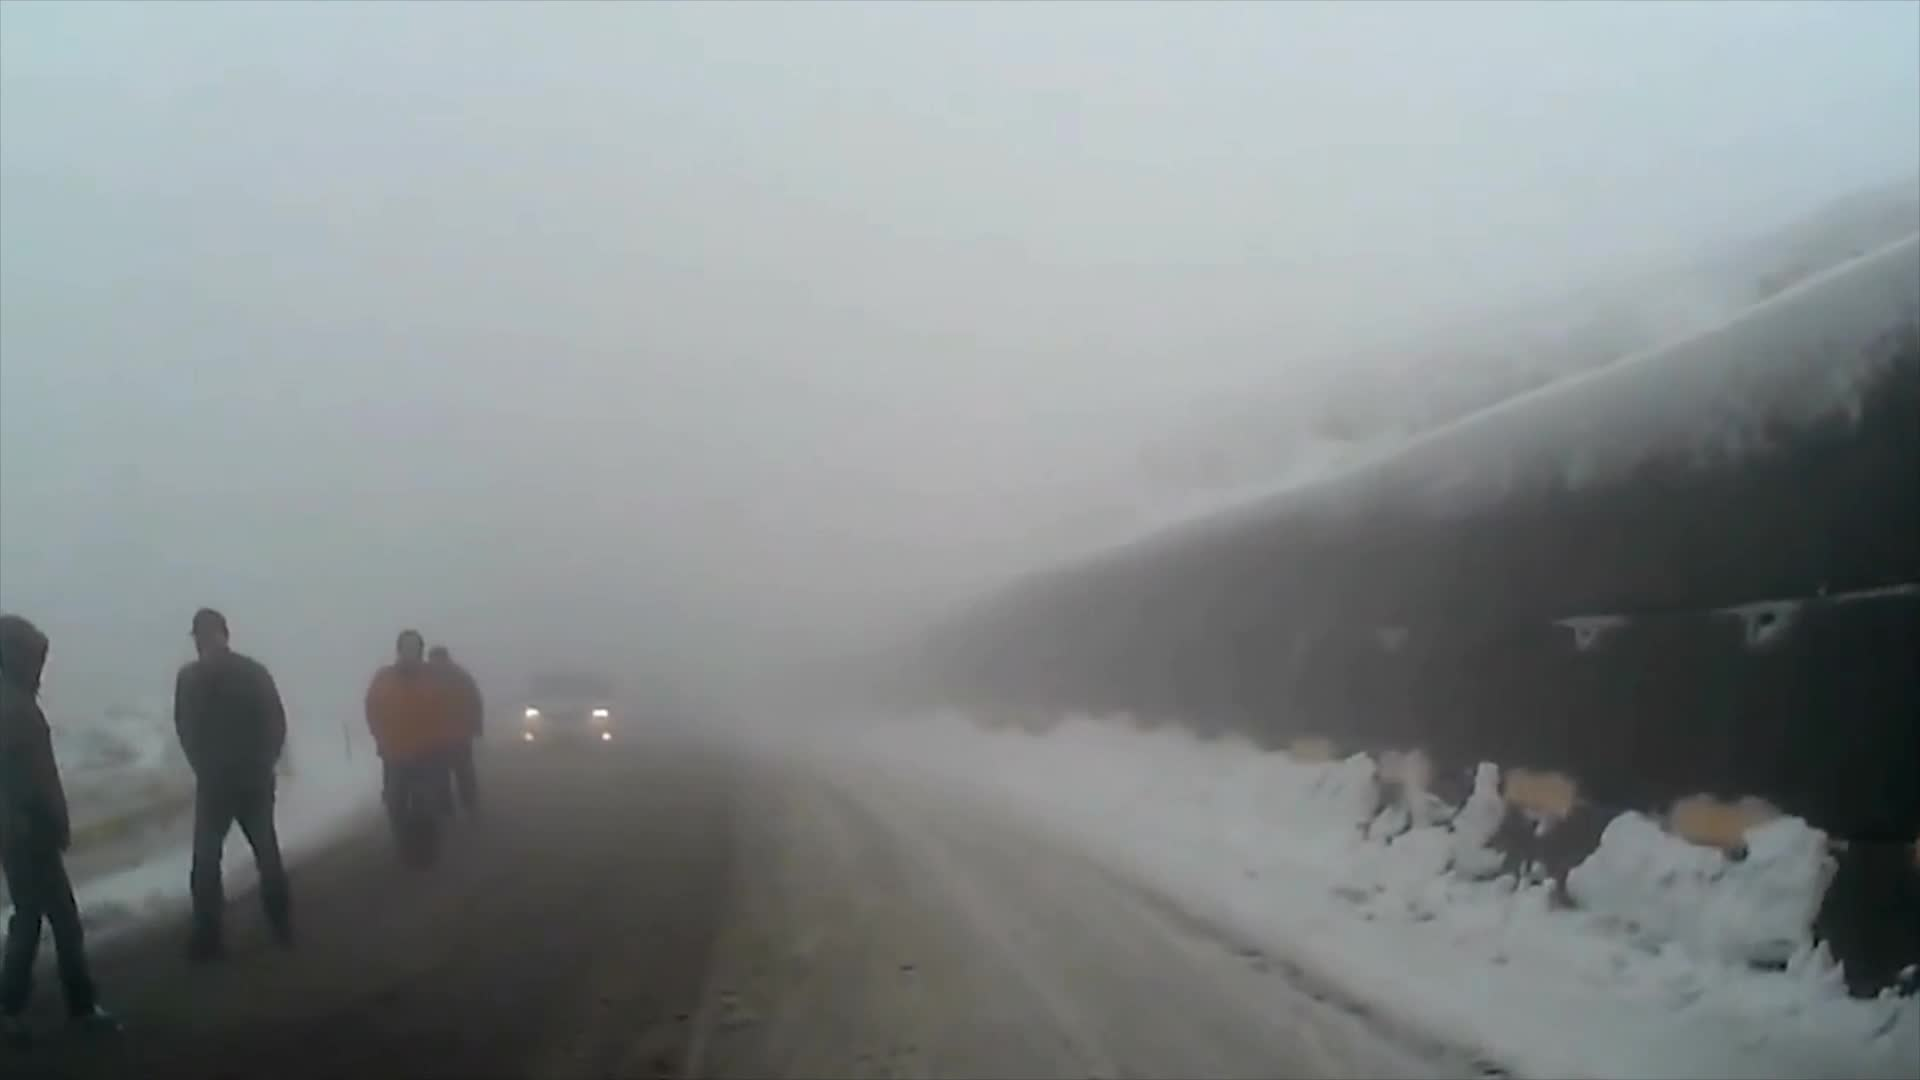pedestrian: (1, 617, 120, 1027), (173, 609, 297, 966), (364, 626, 460, 867)
vehicle: (524, 688, 625, 776)
